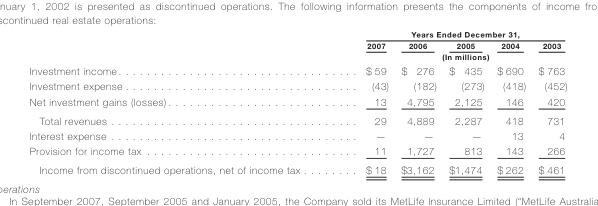table: (28, 29, 566, 174)
table column: (28, 29, 332, 174), (332, 29, 394, 174), (394, 29, 442, 174), (442, 29, 490, 174), (490, 29, 531, 174), (531, 29, 566, 174)
table column header: (28, 29, 566, 62)
table row: (28, 93, 566, 110), (28, 110, 566, 127), (28, 142, 566, 159), (28, 62, 566, 78), (28, 78, 566, 93), (28, 127, 566, 142), (28, 159, 566, 174), (28, 50, 566, 62), (28, 39, 566, 50), (28, 29, 566, 39)
table spanning cell: (332, 50, 566, 62), (332, 29, 566, 39)
